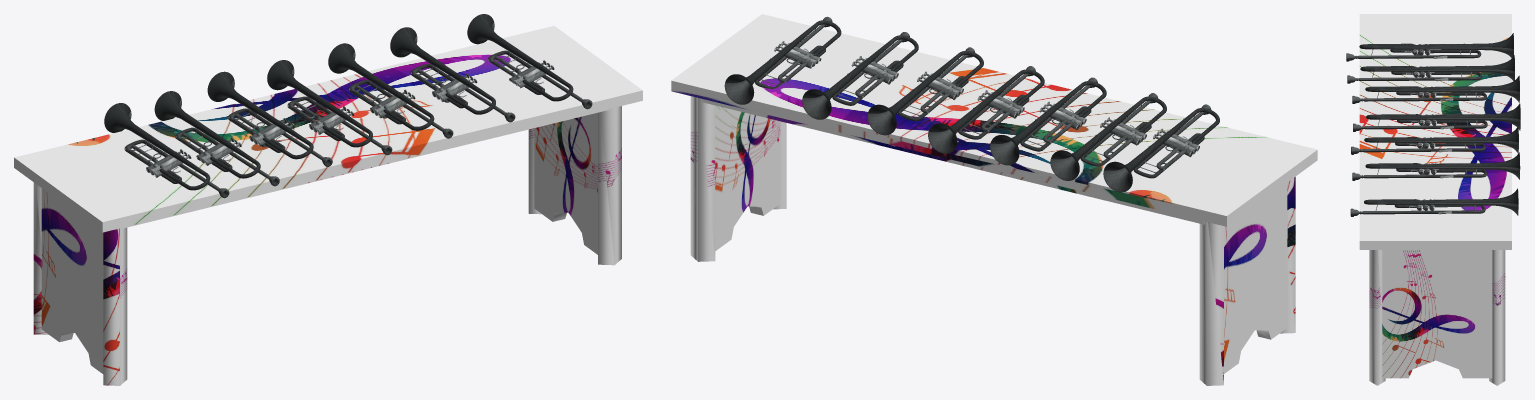
File: tabletrumpet.glb
The picture shows the model from 3 angles, left to right: view 1: azimuth 30°, elevation 25°; view 2: azimuth 150°, elevation 25°; view 3: azimuth 270°, elevation 25°; orthographic projection. The views are drawn at different scales.
Visible parts, largest first — view 1: 10395_Trumpet_v1.006; view 2: 10395_Trumpet_v1.006; view 3: 10395_Trumpet_v1.006.
Part boxes in pixels (<box>): 10395_Trumpet_v1.006: <box>14,14,642,385</box>; 10395_Trumpet_v1.006: <box>671,14,1317,385</box>; 10395_Trumpet_v1.006: <box>1346,14,1520,385</box>.
Size of the model in its own units: 1.97 by 0.7111 by 0.6403.
2 materials, 2 textured.
